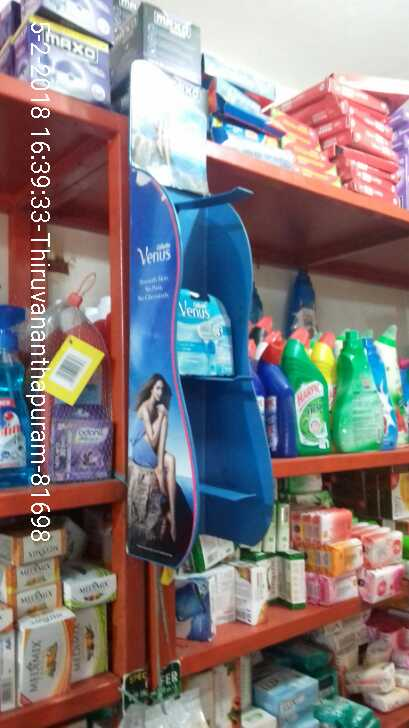venus: (161, 277, 241, 386)
